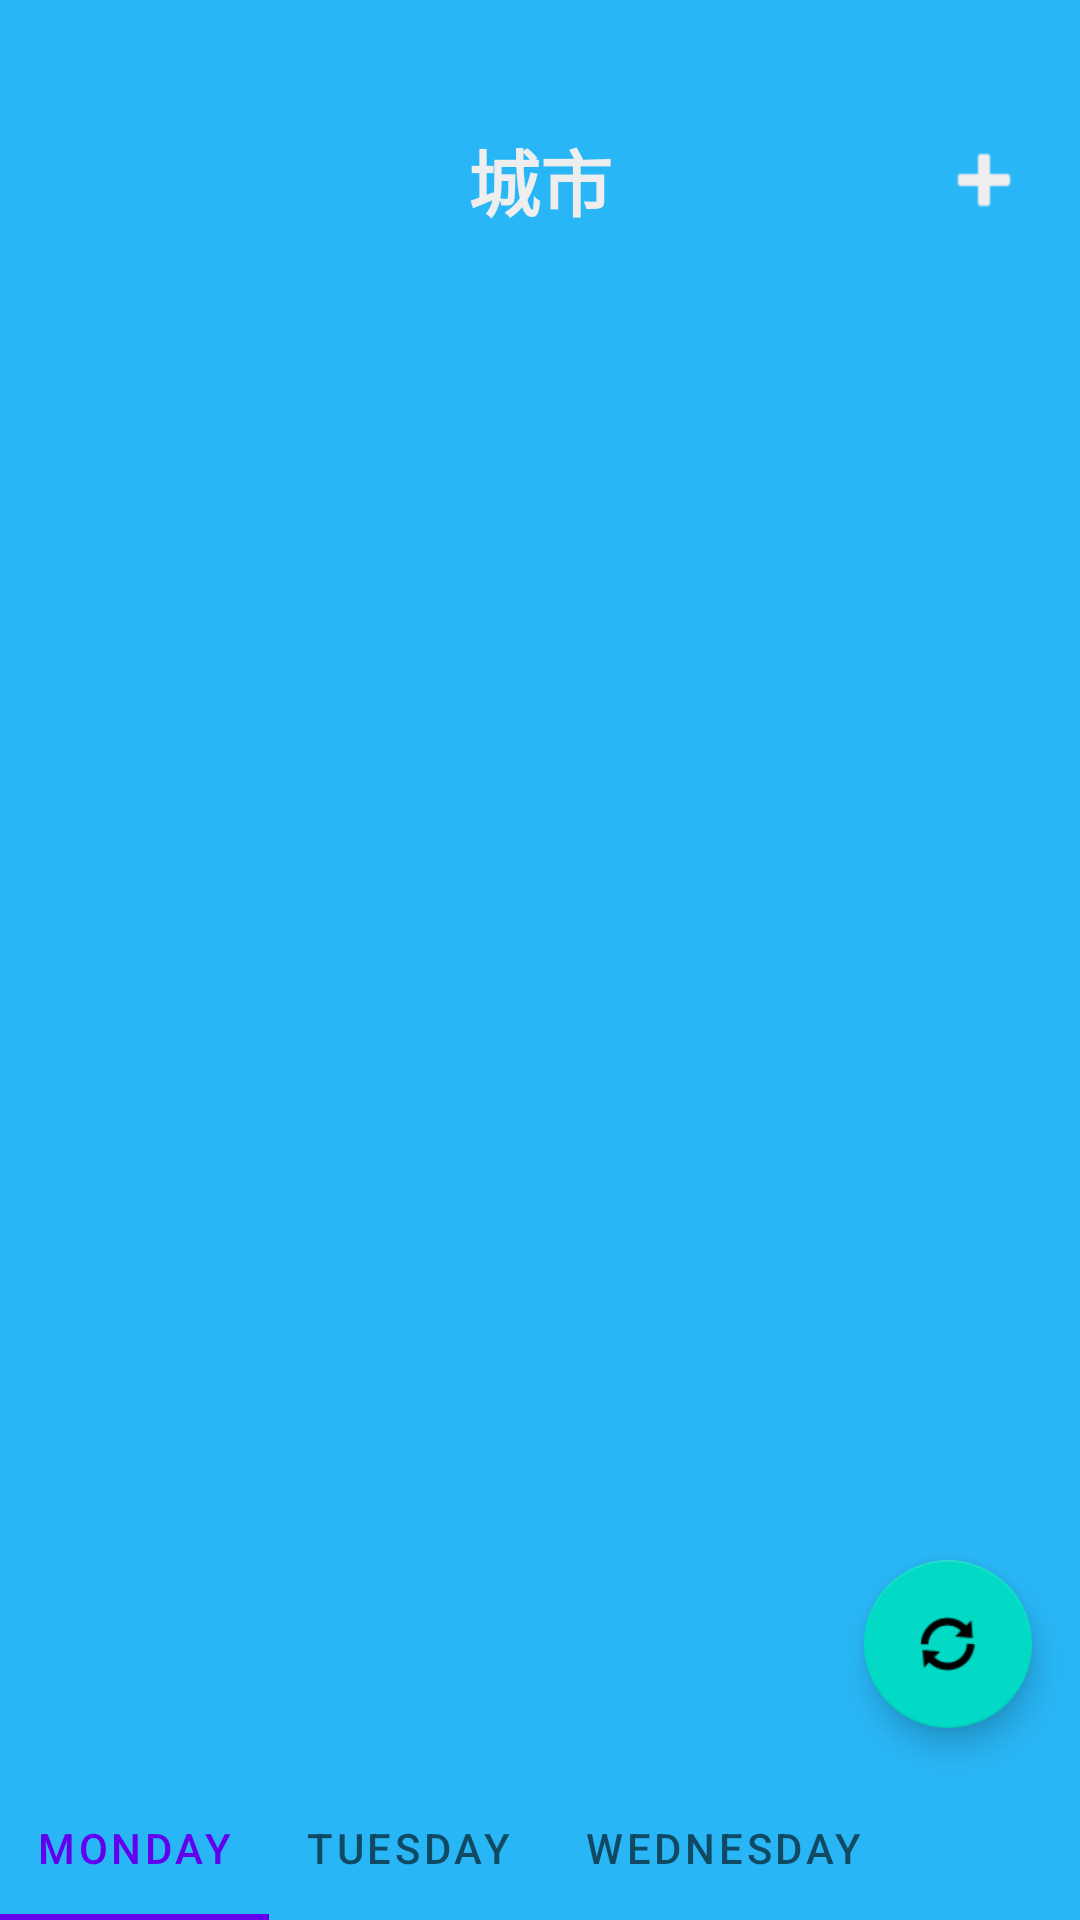

Icons on this 1080×1920 Android screen, each with the point to tap as (x=x, y=y):
add: (x=984, y=180)
popup sync: (x=948, y=1644)
